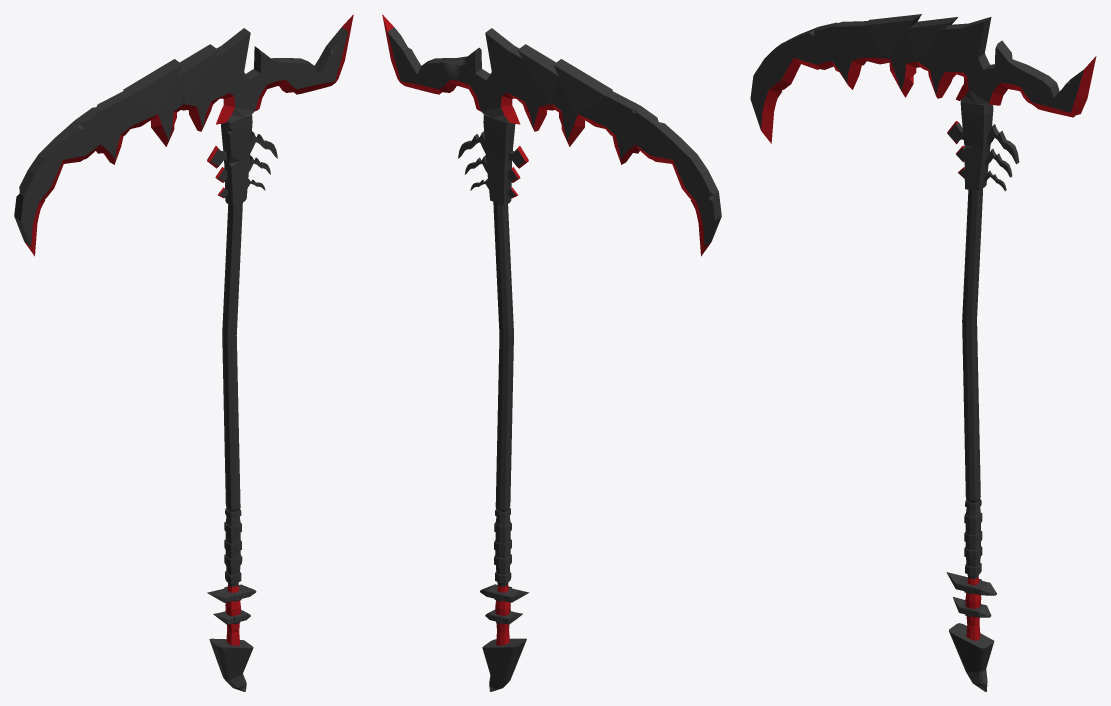
Rendered from Scythe.fbx.
3 views of the same model, side by side, from view 1: azimuth 30°, elevation 25°; view 2: azimuth 150°, elevation 25°; view 3: azimuth 330°, elevation 25° (orthographic).
Visible parts, largest first — view 1: Scythe; view 2: Scythe; view 3: Scythe.
Part boxes in pixels (box(x1,y1,x2,y2)): Scythe: box(14, 14, 353, 691); Scythe: box(382, 14, 721, 691); Scythe: box(750, 14, 1096, 691).
Bounding box in the file's own units: 0.8673 × 1.63 × 0.0538.
